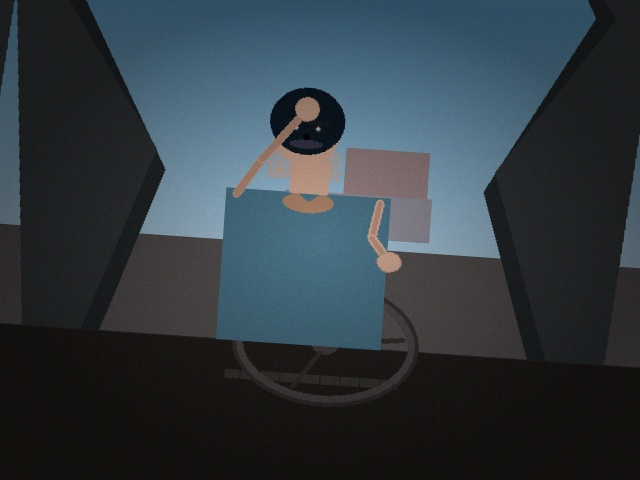hands_off_wheel: (277, 91, 319, 129)
